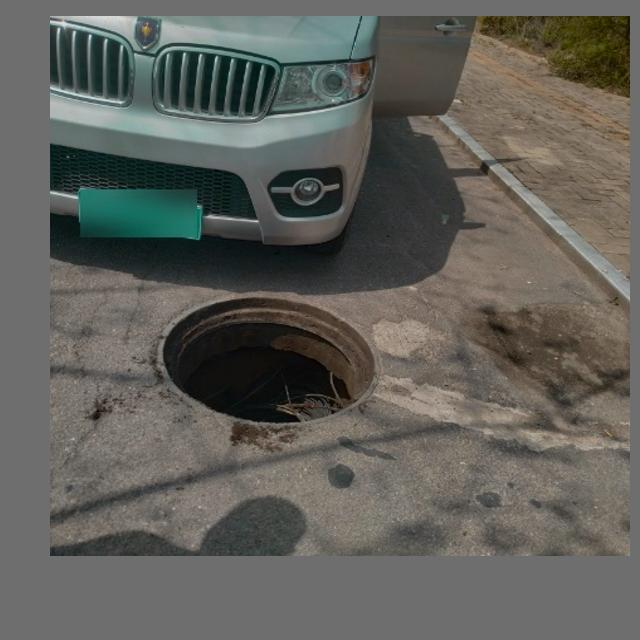lose: (146, 281, 380, 430)
